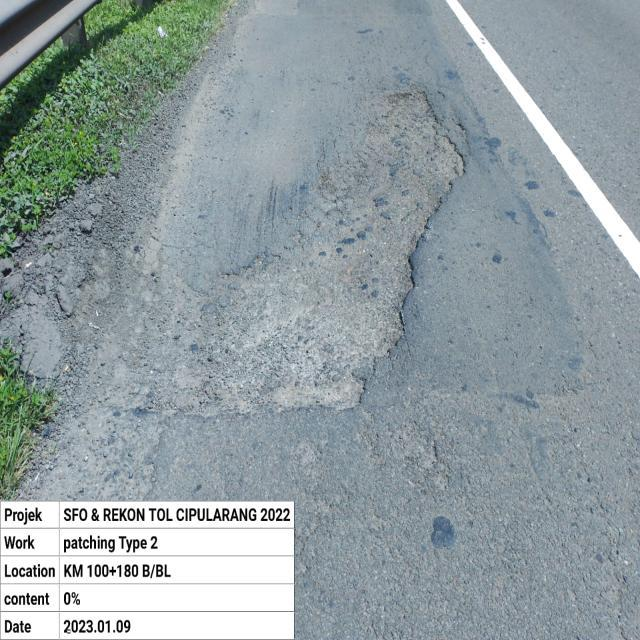Buraco: (48, 82, 472, 423)
